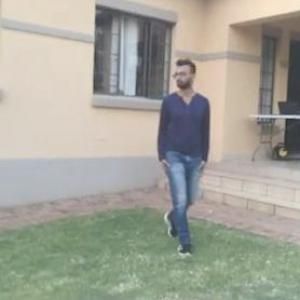follow: (153, 52, 215, 259)
